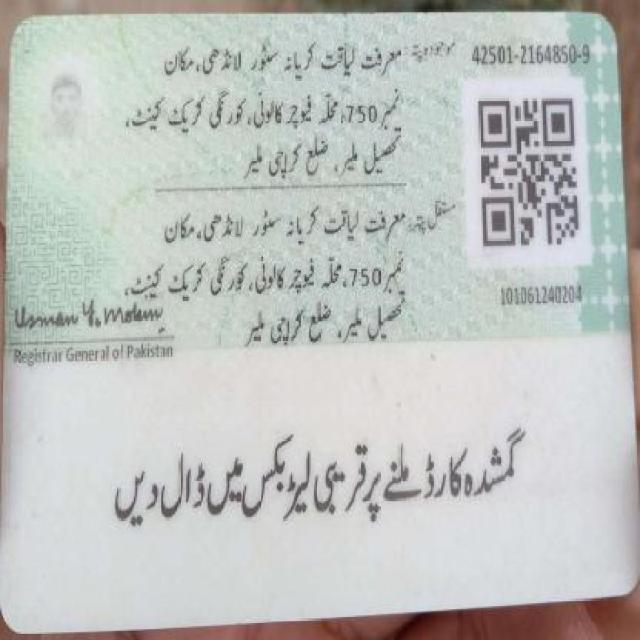Back: (8, 12, 629, 612)
